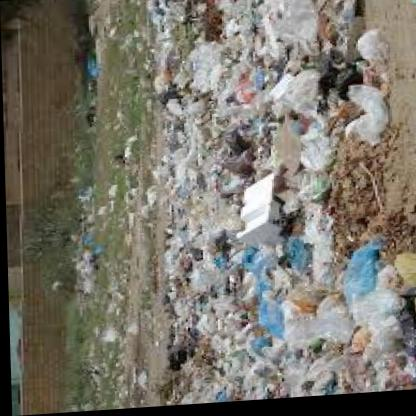Plastic: (247, 247, 308, 393), (313, 252, 377, 347), (200, 14, 264, 108), (271, 59, 330, 122), (260, 0, 316, 56), (353, 75, 389, 151), (296, 168, 332, 240), (286, 125, 332, 177), (338, 24, 382, 74), (385, 241, 416, 298)
